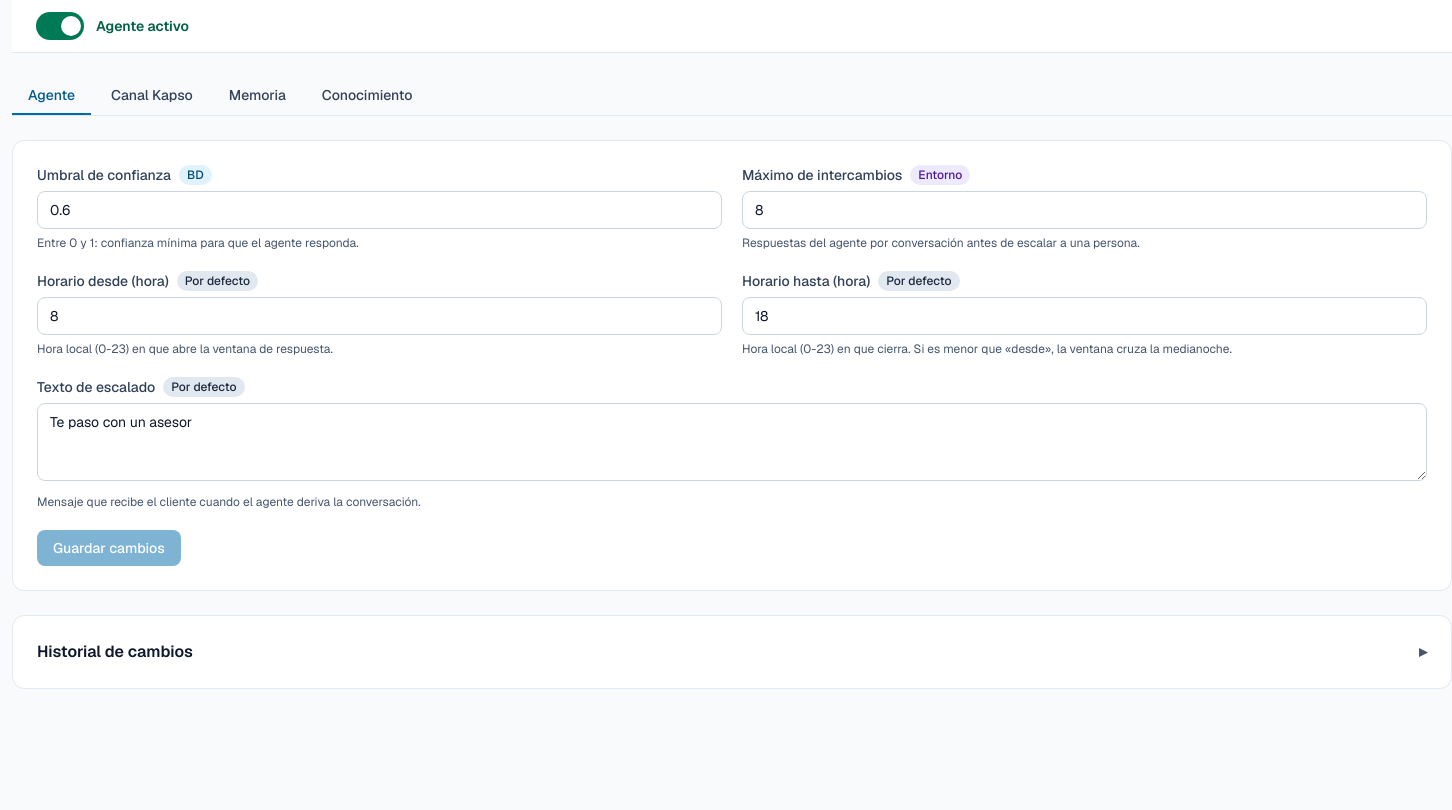
Test: PanelConfiguracion — tab Conocimiento › muestra totales por origen y por estado de ingesta
Step 1. Click the tab "Conocimiento" → (367, 96), box x1=306 y1=77 x2=428 y2=115
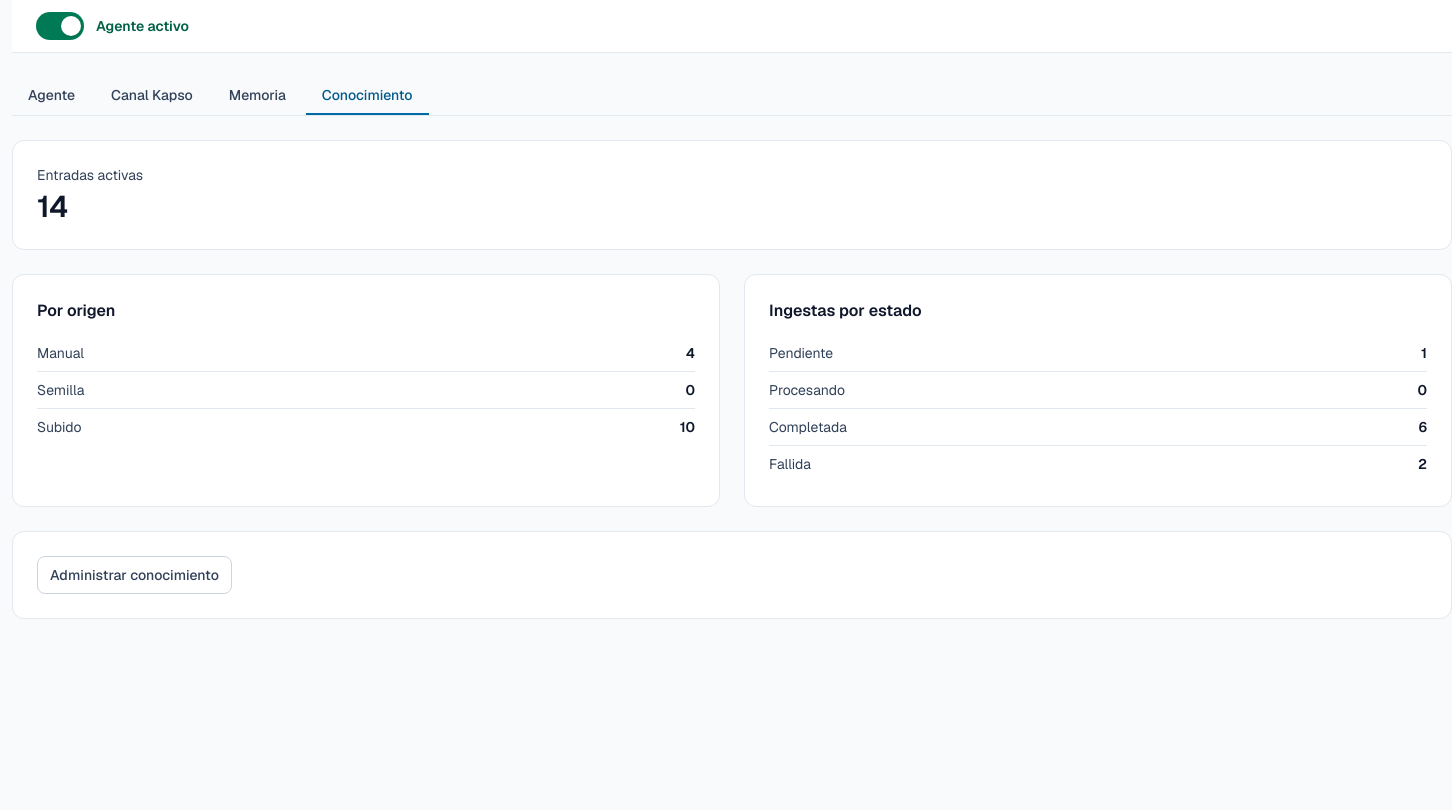
Expected: the text "Entradas activas" is shown, x1=37 y1=166 x2=143 y2=184
Expected: the text with test id "conocimiento-total" reads "14", x1=37 y1=187 x2=68 y2=226
Expected: the text "Subido" is shown, x1=37 y1=417 x2=82 y2=437
